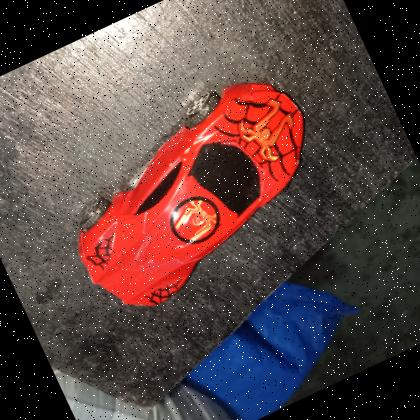Car: (77, 81, 305, 307)
